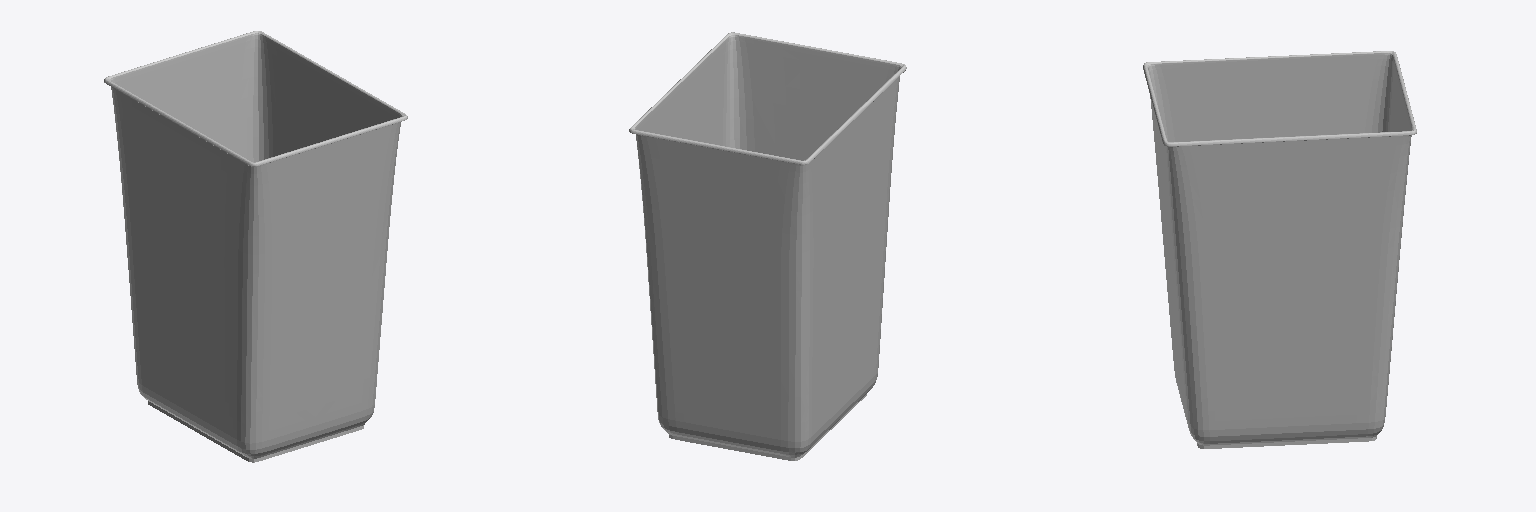
Rendered from botebasura1.obj.
3 renders of one model, left to right at view 1: azimuth 30°, elevation 25°; view 2: azimuth 150°, elevation 25°; view 3: azimuth 270°, elevation 25°, orthographic.
Parts seen in each view (by area): view 1: polySurface323 Recycle_Trash_Bin_OBJ:Mesh; view 2: polySurface323 Recycle_Trash_Bin_OBJ:Mesh; view 3: polySurface323 Recycle_Trash_Bin_OBJ:Mesh.
Part boxes in pixels (x1,y1,x2,y2): polySurface323 Recycle_Trash_Bin_OBJ:Mesh: (104,31,407,462); polySurface323 Recycle_Trash_Bin_OBJ:Mesh: (629,32,906,460); polySurface323 Recycle_Trash_Bin_OBJ:Mesh: (1143,51,1416,448).
Bounding box in the file's own units: 0.2152 × 0.3411 × 0.2661.